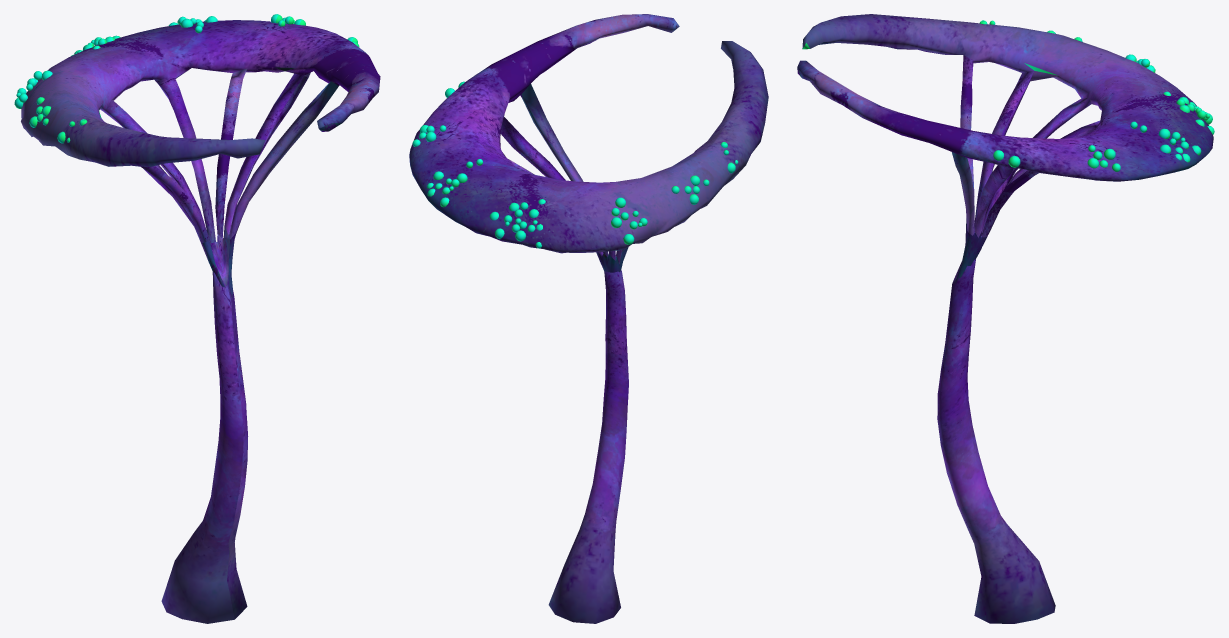
Rendered from LargePlant.glb.
3 renders of one model, left to right at view 1: azimuth 30°, elevation 25°; view 2: azimuth 150°, elevation 25°; view 3: azimuth 270°, elevation 25°, orthographic. The views are drawn at different scales.
Parts seen in each view (by area): view 1: Cube.001; view 2: Cube.001; view 3: Cube.001.
Boxes of the visible parts, x1,y1,x2,y2 form: Cube.001: (14,14,380,623); Cube.001: (409,14,768,623); Cube.001: (797,14,1214,623).
Bounding box in the file's own units: 0.5859 × 1.03 × 0.6973.
1 material, 1 textured.
